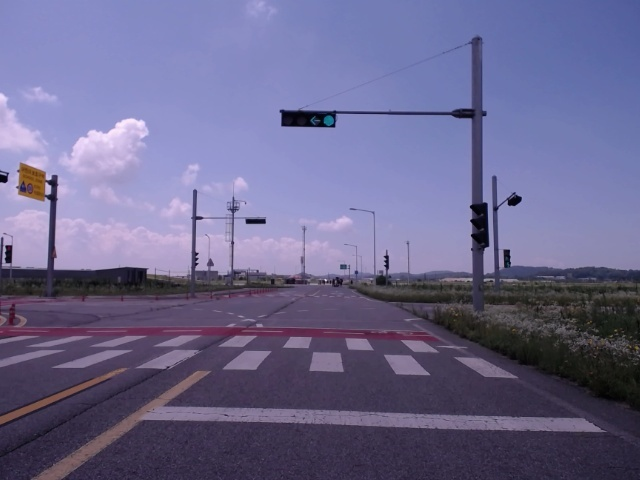all_green_4: (280, 110, 341, 129)
